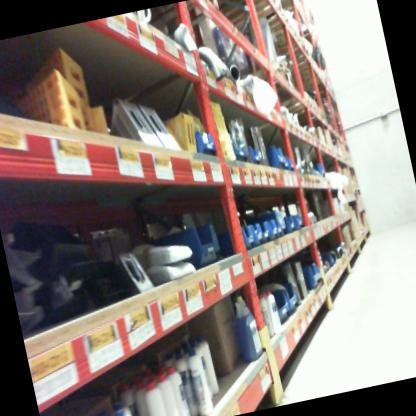pallet: (167, 0, 291, 40), (236, 11, 307, 65)
